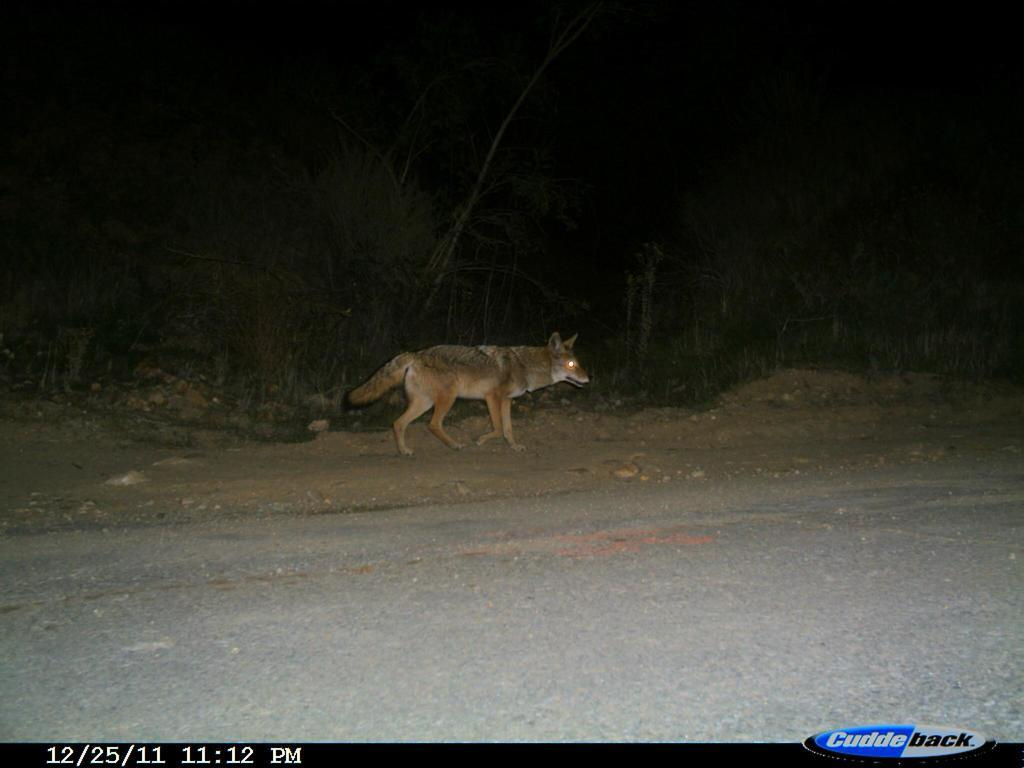coyote: (341, 312, 619, 464)
